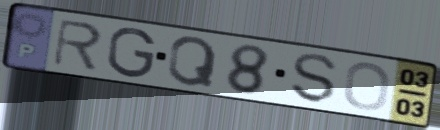8: (224, 43, 272, 97)
G: (105, 26, 158, 80)
O: (342, 60, 394, 113)
Q: (165, 35, 220, 90)
R: (50, 17, 105, 73)
S: (290, 52, 341, 106)
